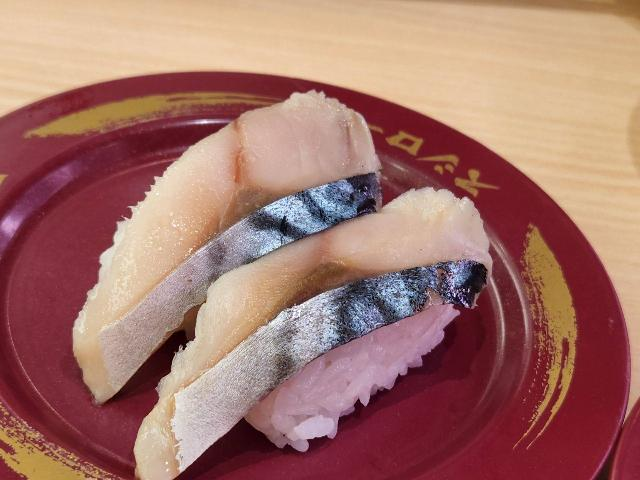janred: (35, 115, 603, 480), (601, 389, 640, 480)
